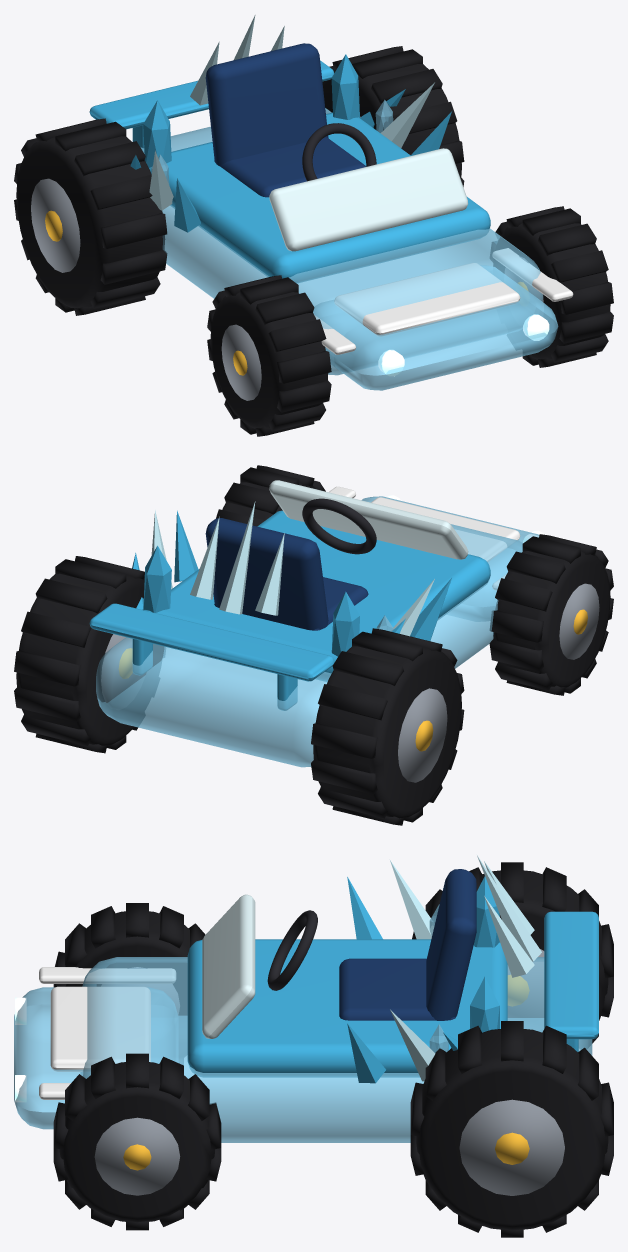
The model's file is ice-kart.glb.
3 views of the same model, one above another, from view 1: azimuth 30°, elevation 25°; view 2: azimuth 150°, elevation 25°; view 3: azimuth 270°, elevation 25° (orthographic). The views are drawn at different scales.
Visible parts, largest first — view 1: kart-body, wheel-back-left, wheel-front-left, wheel-front-right, wheel-back-right; view 2: kart-body, wheel-back-left, wheel-back-right, wheel-front-left, wheel-front-right; view 3: kart-body, wheel-back-right, wheel-front-right, wheel-front-left, wheel-back-left.
Boxes of the visible parts, left/top/right/bottom form: kart-body: left=89, top=15, right=573, bottom=390; wheel-back-left: left=14, top=118, right=167, bottom=315; wheel-front-left: left=207, top=275, right=331, bottom=436; wheel-front-right: left=490, top=206, right=613, bottom=367; wheel-back-right: left=322, top=46, right=464, bottom=186; kart-body: left=89, top=480, right=544, bottom=767; wheel-back-left: left=311, top=628, right=464, bottom=825; wheel-back-right: left=14, top=556, right=164, bottom=753; wheel-front-left: left=489, top=534, right=613, bottom=695; wheel-front-right: left=216, top=465, right=325, bottom=526; kart-body: left=14, top=855, right=598, bottom=1142; wheel-back-right: left=410, top=1021, right=613, bottom=1237; wheel-front-right: left=53, top=1053, right=221, bottom=1230; wheel-front-left: left=53, top=903, right=205, bottom=1015; wheel-back-left: left=412, top=862, right=613, bottom=1043.
Bounding box in the file's own units: 2.06 × 1.39 × 2.62.
